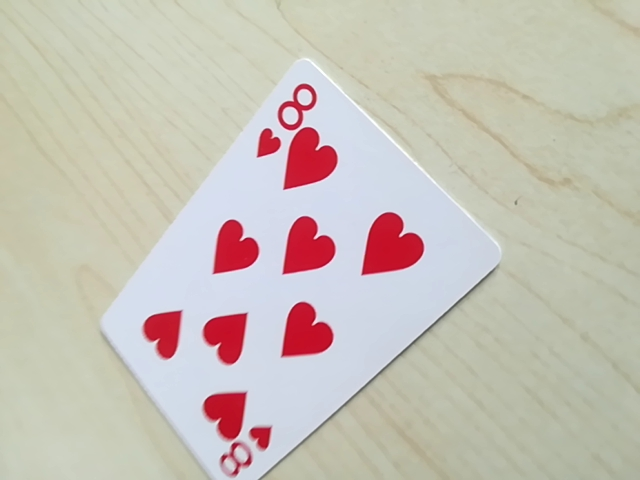hx 8: (262, 75, 327, 151), (212, 430, 272, 480)
